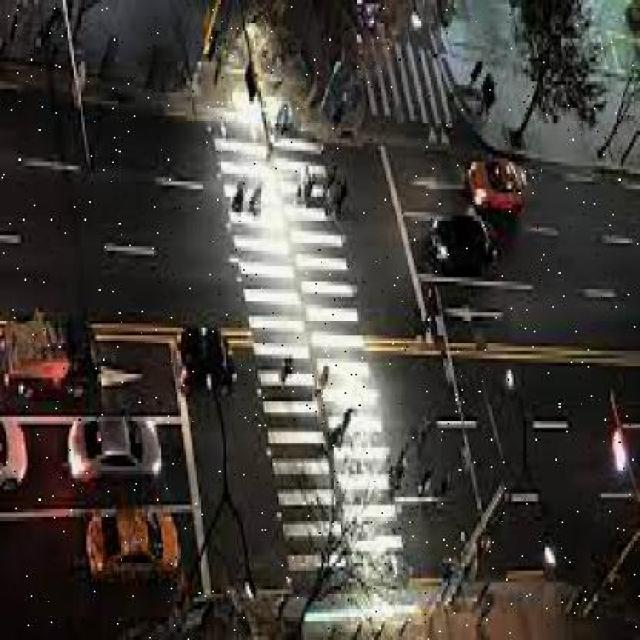crosswalk: (214, 137, 352, 573), (276, 140, 407, 558), (358, 36, 461, 125)
